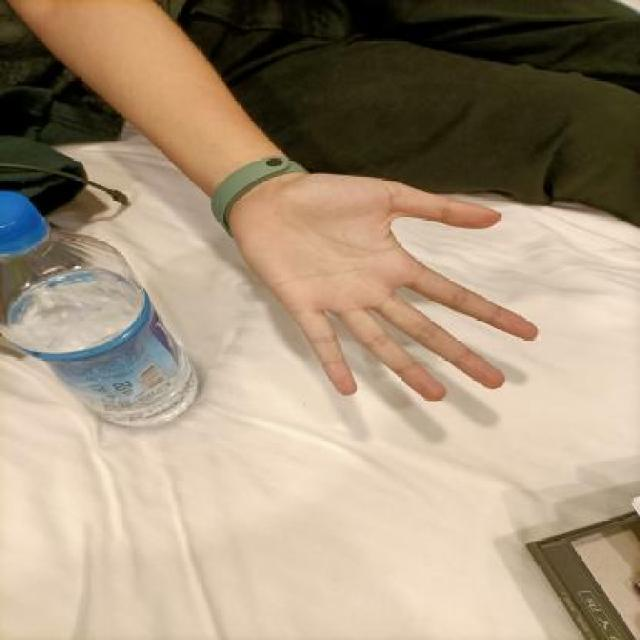hand: (200, 146, 552, 412)
